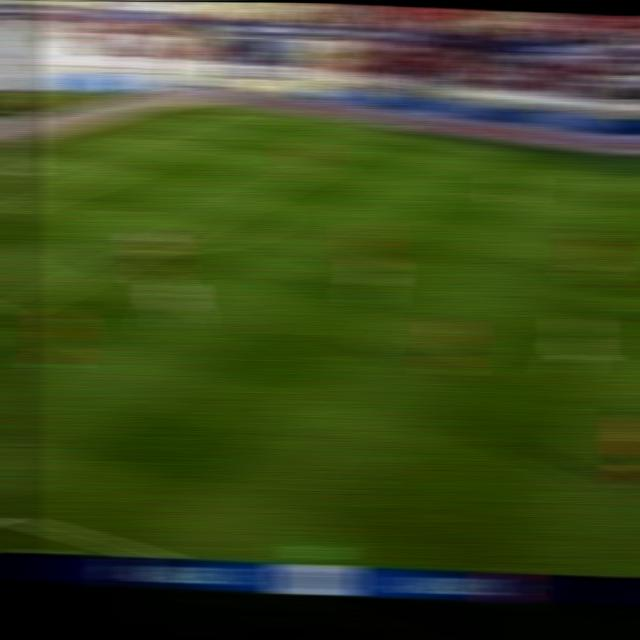bigarea_top_inner: (301, 156, 337, 172)
bigarea_top_outter: (124, 128, 159, 145)
corner: (199, 107, 235, 121)
smallarea_top_inner: (103, 164, 139, 179)
smallarea_top_outter: (43, 151, 80, 168)
top_arc_area_intersection: (231, 188, 270, 207)
